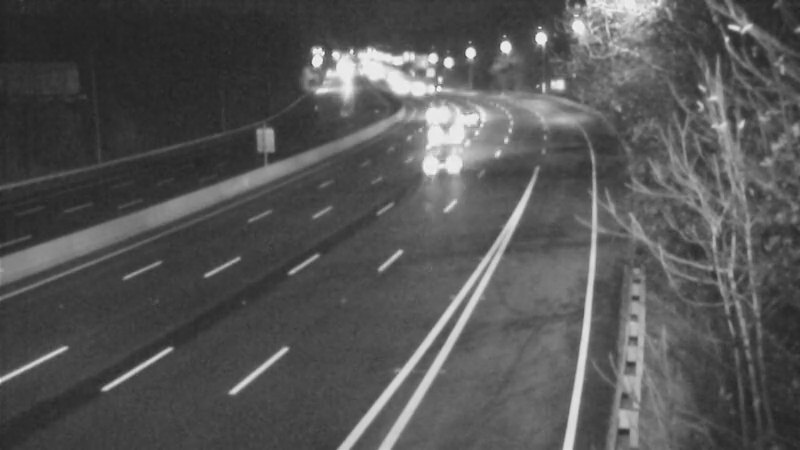vehicle: (401, 123, 481, 203), (406, 63, 456, 113), (393, 64, 443, 114), (407, 89, 457, 139), (440, 94, 490, 144), (415, 110, 465, 160)
